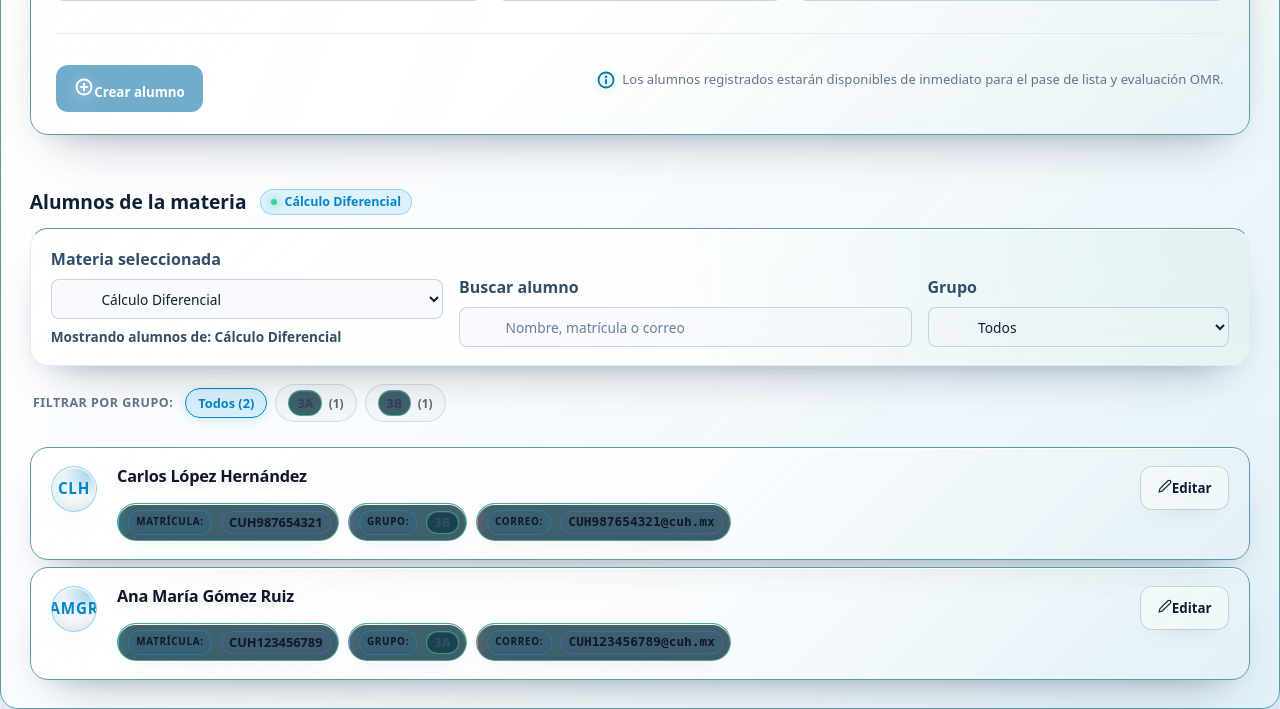
Test case: SeccionAlumnos › permite iniciar y cancelar la edición de un alumno
(page scrolled)
Click the button "Editar" in the row of "Carlos López Hernández" at (1185, 488), box [1140, 466, 1229, 510]
(page scrolled)
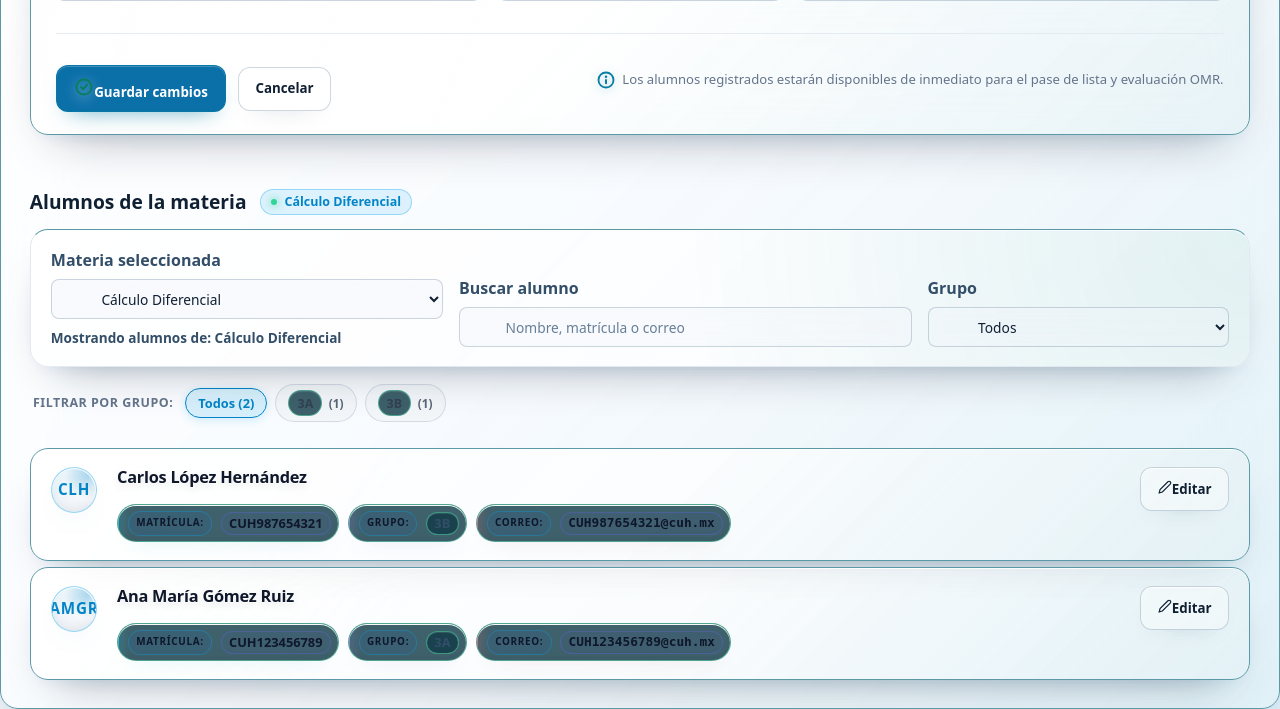
Expected: the button "Guardar cambios" is shown, [56, 65, 226, 112]
Expected: the button "Cancelar" is shown
Click the button "Cancelar" at (284, 89), box [238, 67, 331, 111]
(page scrolled)
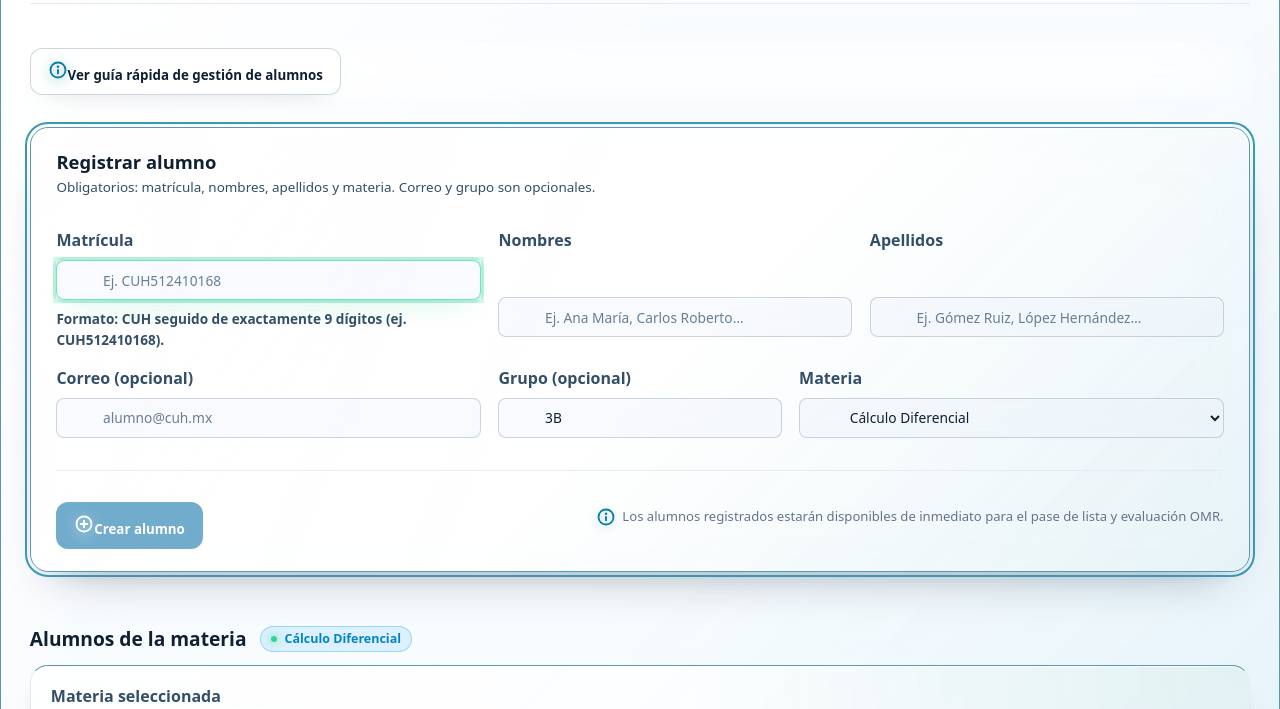
Expected: the button "Crear alumno" is shown, [56, 502, 203, 549]
